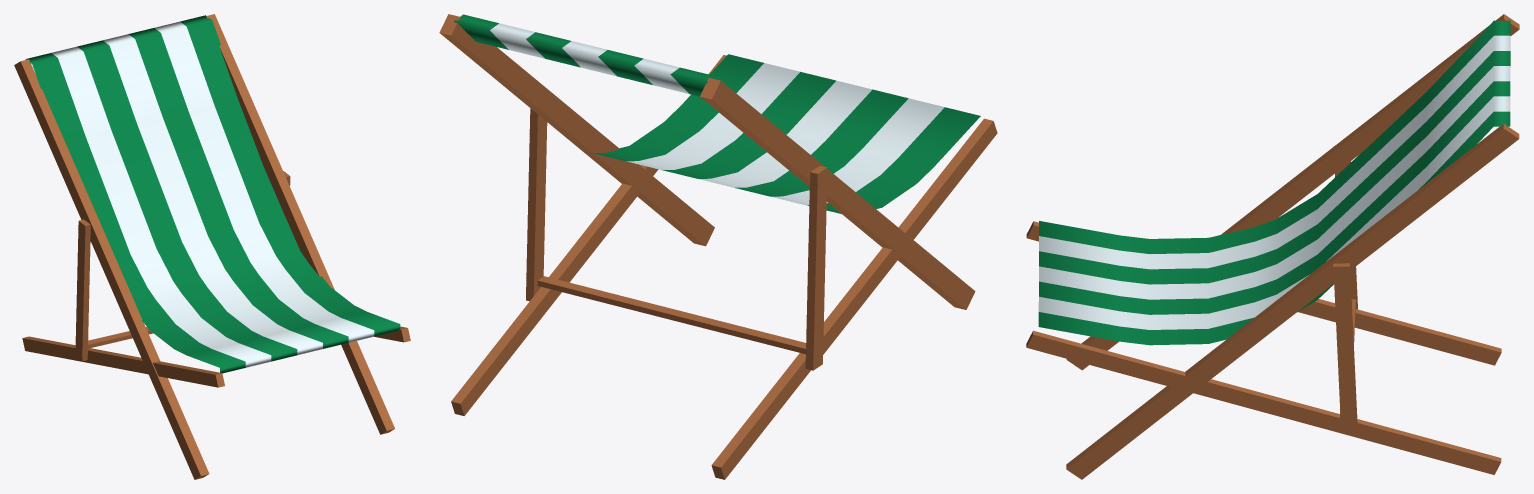
Rendered from beachChair.glb.
The picture shows the model from 3 angles, left to right: view 1: azimuth 30°, elevation 25°; view 2: azimuth 150°, elevation 25°; view 3: azimuth 270°, elevation 25°; orthographic projection. The views are drawn at different scales.
Visible parts, largest first — view 1: beachChair; view 2: beachChair; view 3: beachChair.
Boxes of the visible parts, x1,y1,x2,y2 form: beachChair: (14, 14, 410, 479); beachChair: (439, 14, 997, 479); beachChair: (1026, 14, 1519, 479).
Size of the model in its own units: 0.5782 by 0.7849 by 0.9976.
